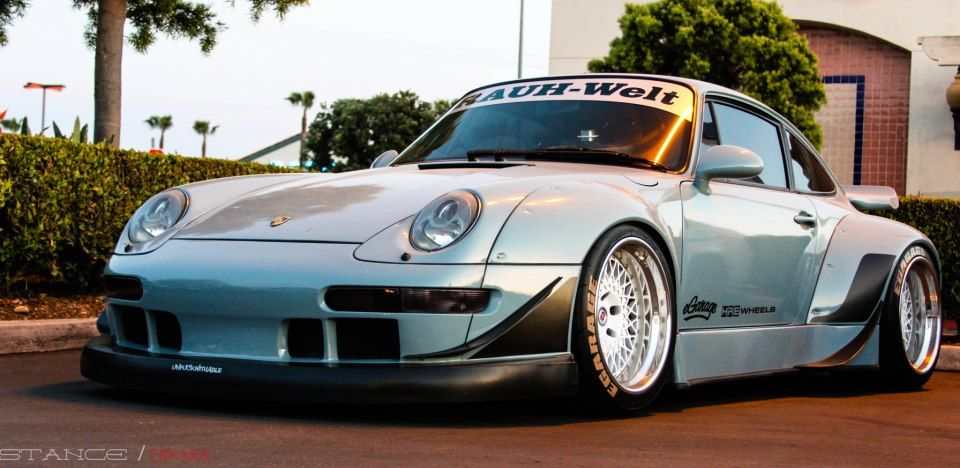Car: (95, 72, 949, 405)
